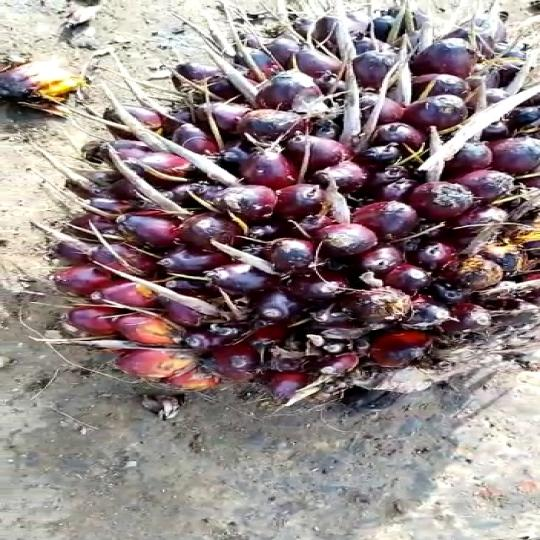kurang masak: (73, 0, 540, 410)
